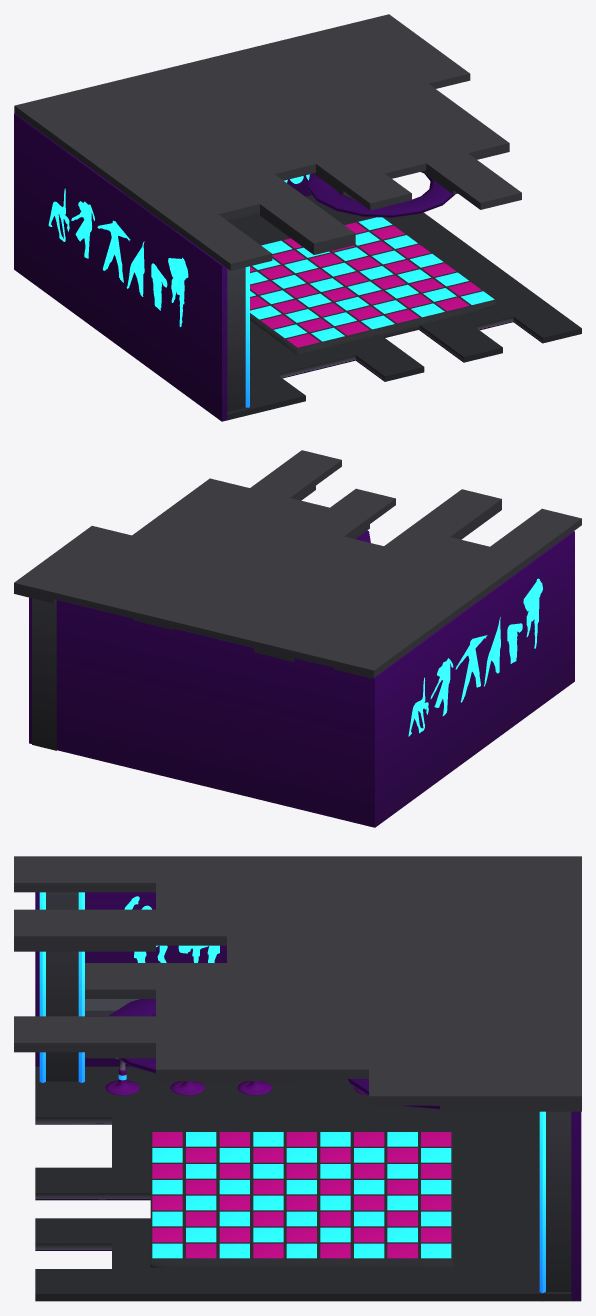
File: escenario.hiit.fbx
3 renders of one model, top to bottom at view 1: azimuth 30°, elevation 25°; view 2: azimuth 150°, elevation 25°; view 3: azimuth 270°, elevation 25°, orthographic. The views are drawn at different scales.
Parts seen in each view (by area): view 1: Cube.001, Cube, Cube.003, Text.003, Cube.006, Torus.003; view 2: Cube, Cube.001, Cube.006, Text.003; view 3: Cube.001, Cube, Cube.003, Cube.006, Torus.003, Text.003, Cube.009, Cylinder.
Part boxes in pixels (left/top/right/bottom): Cube.001: left=14, top=14, right=521, bottom=270; Cube: left=14, top=113, right=581, bottom=421; Cube.003: left=250, top=217, right=495, bottom=354; Text.003: left=48, top=188, right=188, bottom=326; Cube.006: left=227, top=266, right=249, bottom=411; Torus.003: left=308, top=171, right=454, bottom=217; Cube: left=29, top=531, right=574, bottom=827; Cube.001: left=14, top=450, right=581, bottom=678; Cube.006: left=32, top=598, right=56, bottom=750; Text.003: left=408, top=578, right=542, bottom=736; Cube.001: left=14, top=856, right=581, bottom=1111; Cube: left=35, top=892, right=581, bottom=1301; Cube.003: left=150, top=1132, right=452, bottom=1267; Cube.006: left=39, top=892, right=571, bottom=1301; Torus.003: left=109, top=999, right=155, bottom=1073; Text.003: left=124, top=896, right=219, bottom=962; Cube.009: left=85, top=999, right=155, bottom=1015; Cylinder: left=105, top=1058, right=139, bottom=1095.
Bounding box in the file's own units: 1151 × 481 × 1148.
Materials: 1 (1 with a texture image).
